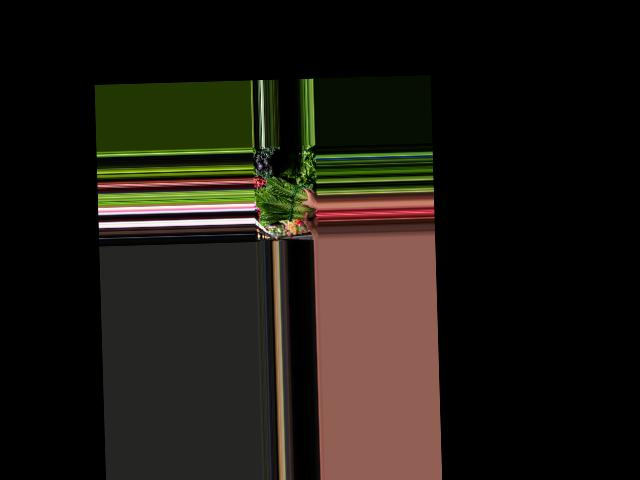lettuce: (257, 174, 318, 223)
